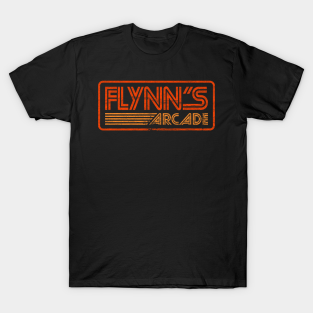design: (96, 78, 217, 132)
